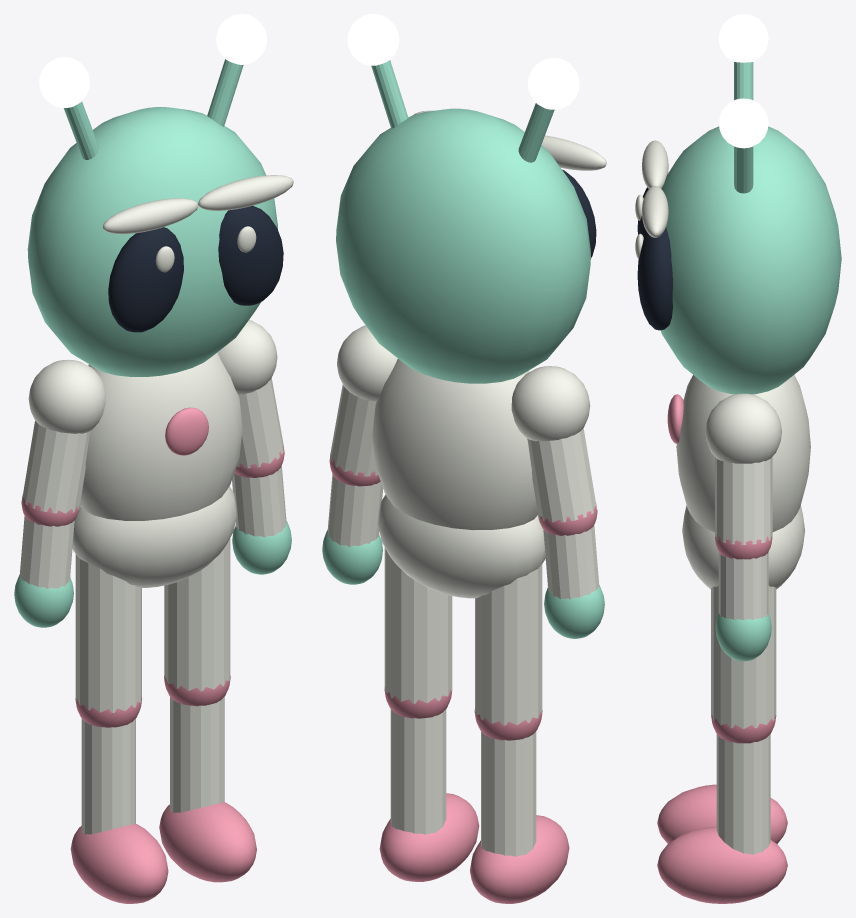
Rendered from alien.glb.
3 renders of one model, left to right at view 1: azimuth 30°, elevation 25°; view 2: azimuth 150°, elevation 25°; view 3: azimuth 270°, elevation 25°, orthographic. The views are drawn at different scales.
Visible parts, largest first — view 1: Skull, Torso, Pelvis, LeftUpperLeg, RightUpperLeg, RightBoot, LeftBoot, LeftLowerLeg, RightLowerLeg, LeftEye, RightEye, LeftShoulder (+18 smaller); view 2: Skull, Torso, Pelvis, LeftUpperLeg, RightUpperLeg, RightLowerLeg, LeftLowerLeg, LeftBoot, RightBoot, LeftShoulder, LeftUpperSleeve, LeftLowerSleeve (+15 smaller); view 3: Skull, Torso, RightBoot, RightLowerLeg, RightUpperLeg, RightUpperSleeve, RightShoulder, Pelvis, RightLowerSleeve, LeftBoot, RightEye, RightPalm (+9 smaller).
Boxes of the visible parts, <box> form: Skull: <box>27,107,277,376</box>; Torso: <box>80,352,242,520</box>; Pelvis: <box>72,486,236,587</box>; LeftUpperLeg: <box>75,554,141,712</box>; RightUpperLeg: <box>164,538,230,691</box>; RightBoot: <box>159,802,256,882</box>; LeftBoot: <box>70,823,168,903</box>; LeftLowerLeg: <box>81,718,135,834</box>; RightLowerLeg: <box>170,697,224,812</box>; LeftEye: <box>108,227,183,332</box>; RightEye: <box>218,205,283,305</box>; LeftShoulder: <box>28,360,105,433</box>; Skull: <box>336,108,590,383</box>; Torso: <box>372,359,537,530</box>; Pelvis: <box>378,494,545,598</box>; LeftUpperLeg: <box>475,564,542,725</box>; RightUpperLeg: <box>384,547,452,703</box>; RightLowerLeg: <box>390,709,446,834</box>; LeftLowerLeg: <box>481,731,536,856</box>; LeftBoot: <box>470,815,569,903</box>; RightBoot: <box>379,793,479,881</box>; LeftShoulder: <box>511,366,590,441</box>; LeftUpperSleeve: <box>527,428,596,522</box>; LeftLowerSleeve: <box>543,525,599,599</box>; Skull: <box>660,126,841,394</box>; Torso: <box>676,375,810,532</box>; RightBoot: <box>657,826,787,903</box>; RightLowerLeg: <box>716,734,770,854</box>; RightUpperLeg: <box>711,585,776,729</box>; RightUpperSleeve: <box>715,457,772,544</box>; RightShoulder: <box>705,393,781,463</box>; Pelvis: <box>682,505,805,589</box>; RightLowerSleeve: <box>718,552,768,619</box>; LeftBoot: <box>657,784,787,843</box>; RightEye: <box>637,227,672,330</box>; RightPalm: <box>715,614,771,661</box>.
Bounding box in the file's own units: 0.794 × 2.35 × 0.537.
